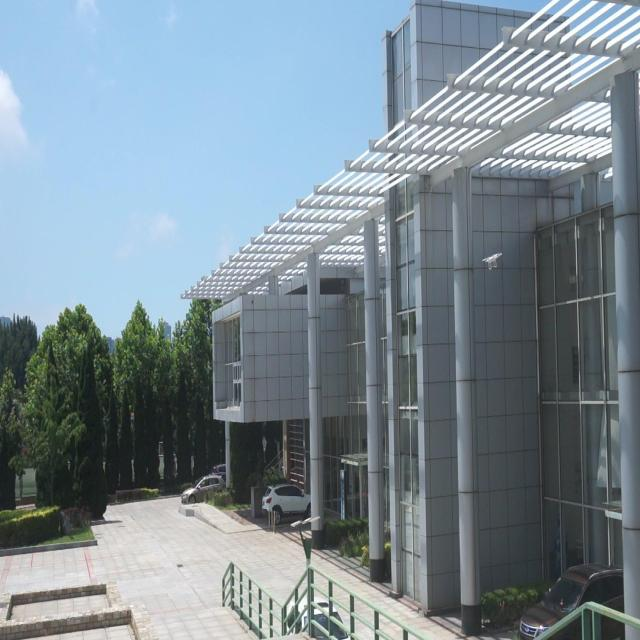drone: (480, 248, 505, 273)
